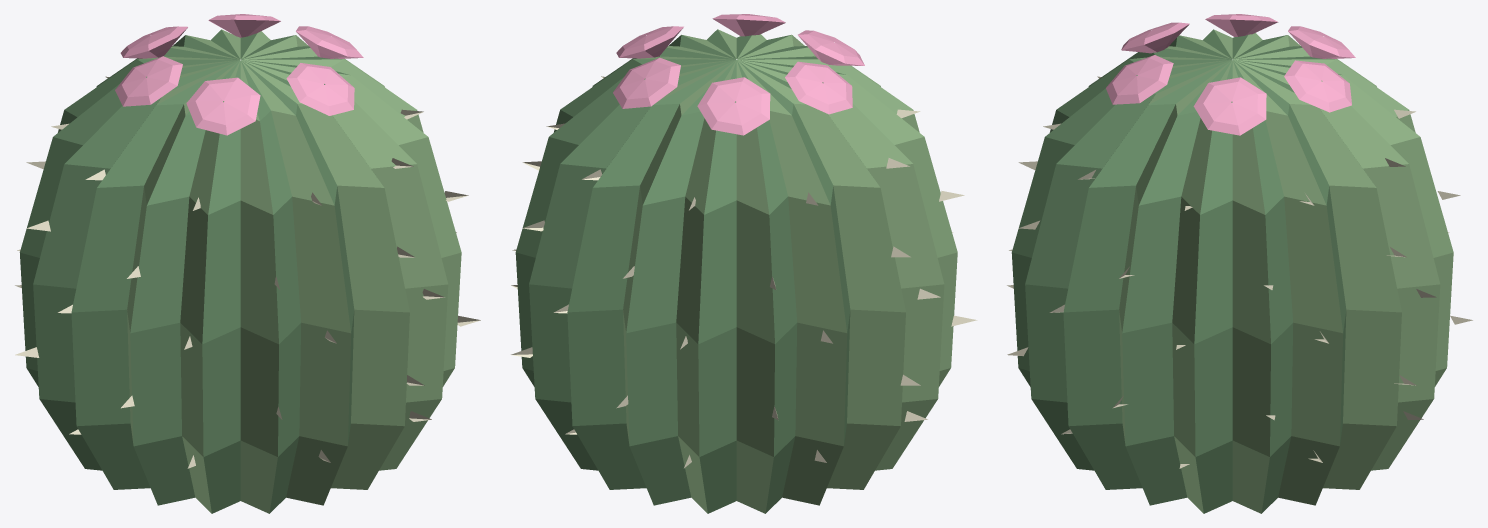
Rendered from cactus-barrel-b.glb.
3 renders of one model, left to right at view 1: azimuth 30°, elevation 25°; view 2: azimuth 150°, elevation 25°; view 3: azimuth 270°, elevation 25°, orthographic.
Parts seen in each view (by area): view 1: cactus-barrel-b; view 2: cactus-barrel-b; view 3: cactus-barrel-b.
Part boxes in pixels (left/top/right/bottom): cactus-barrel-b: left=15, top=14, right=480, bottom=513; cactus-barrel-b: left=511, top=14, right=977, bottom=513; cactus-barrel-b: left=1007, top=14, right=1472, bottom=513.
Size of the model in its own units: 0.5582 by 0.5147 by 0.5498.
